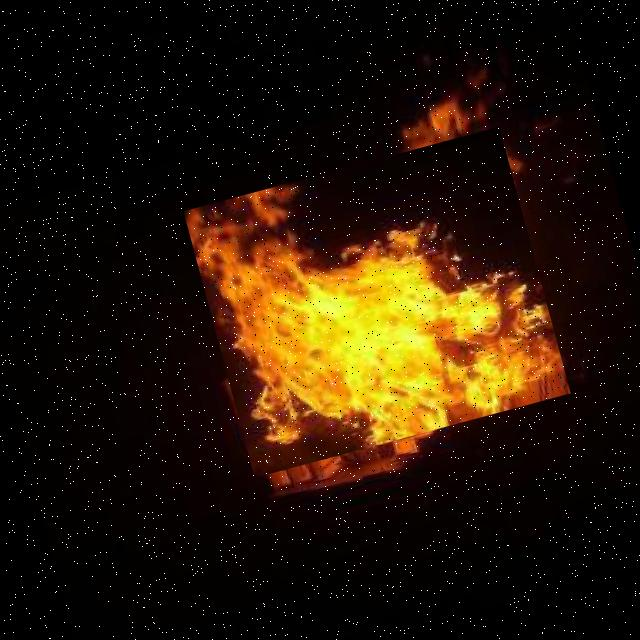fire: (183, 126, 570, 477)
